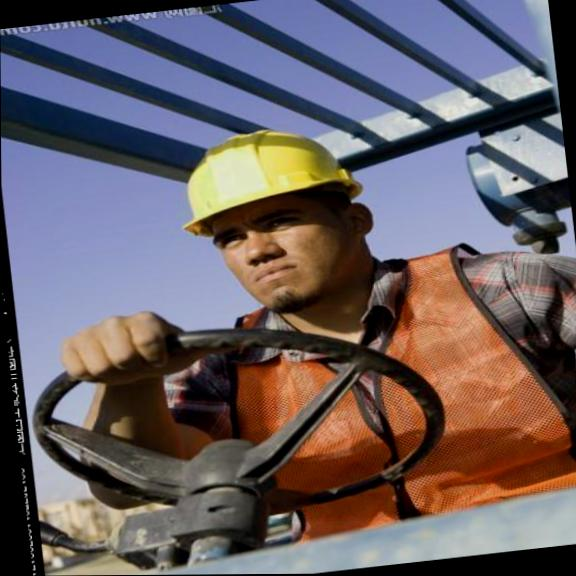safety_vest: (209, 231, 544, 546)
